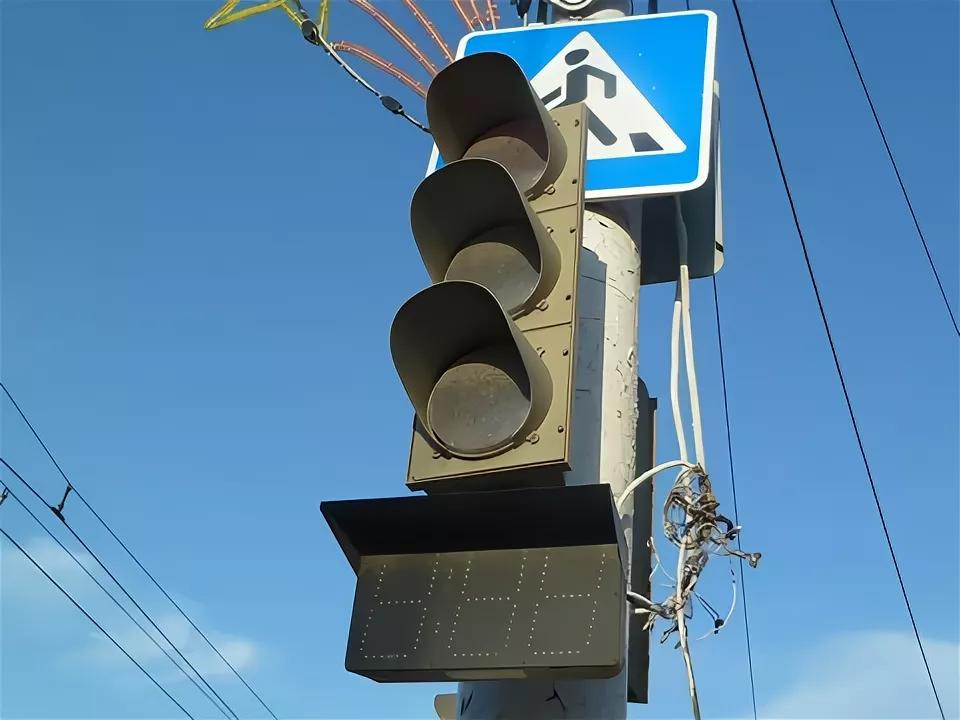obstructed_road_sign: (458, 11, 716, 199)
off traffic light: (389, 55, 584, 495), (316, 481, 630, 670)
